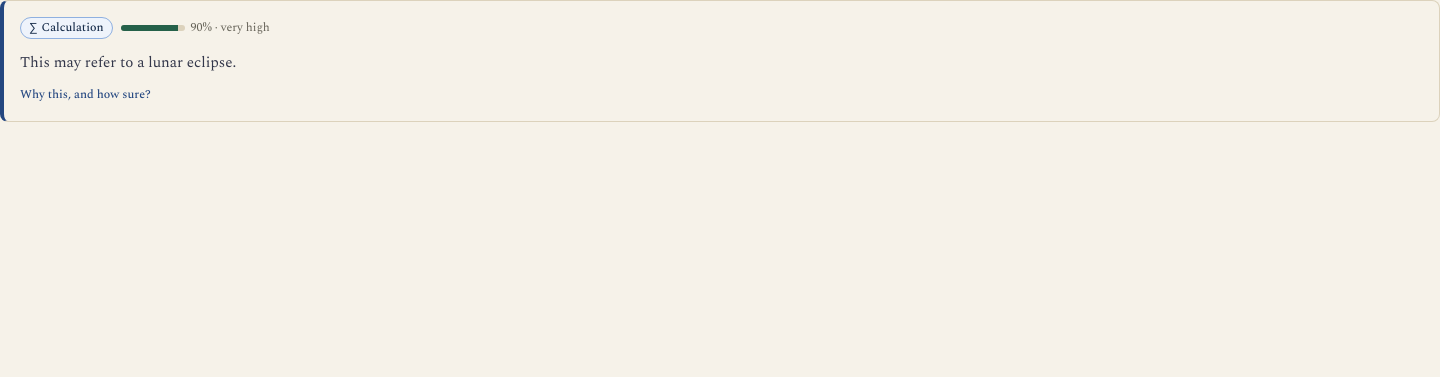
Test: ClaimCard › reveals reasoning and provenance on request
Check: the text "Meeus ch. 54" is not shown
Click the button "Why this, and how sure?" at [85, 95], box [20,87,151,103]
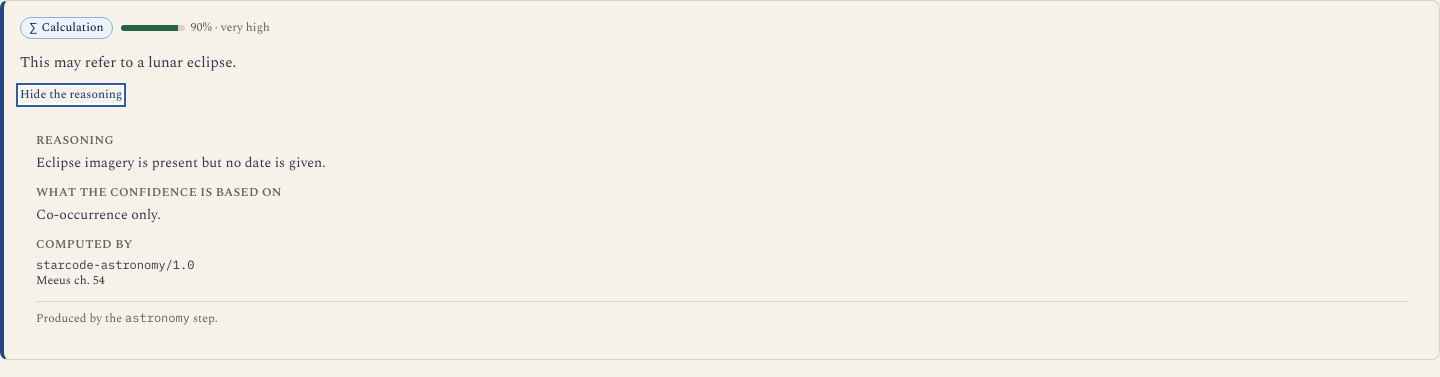
Check: the text "Meeus ch. 54" is shown, box [36,271,105,290]
Check: the text "starcode-astronomy/1.0" is shown, box [36,257,194,272]
